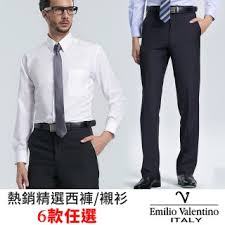F_belt: (32, 121, 102, 137), (142, 5, 197, 17)
F_dress pants: (137, 6, 200, 180)
F_shirt: (13, 31, 121, 166)
F_tie: (47, 45, 68, 136)
